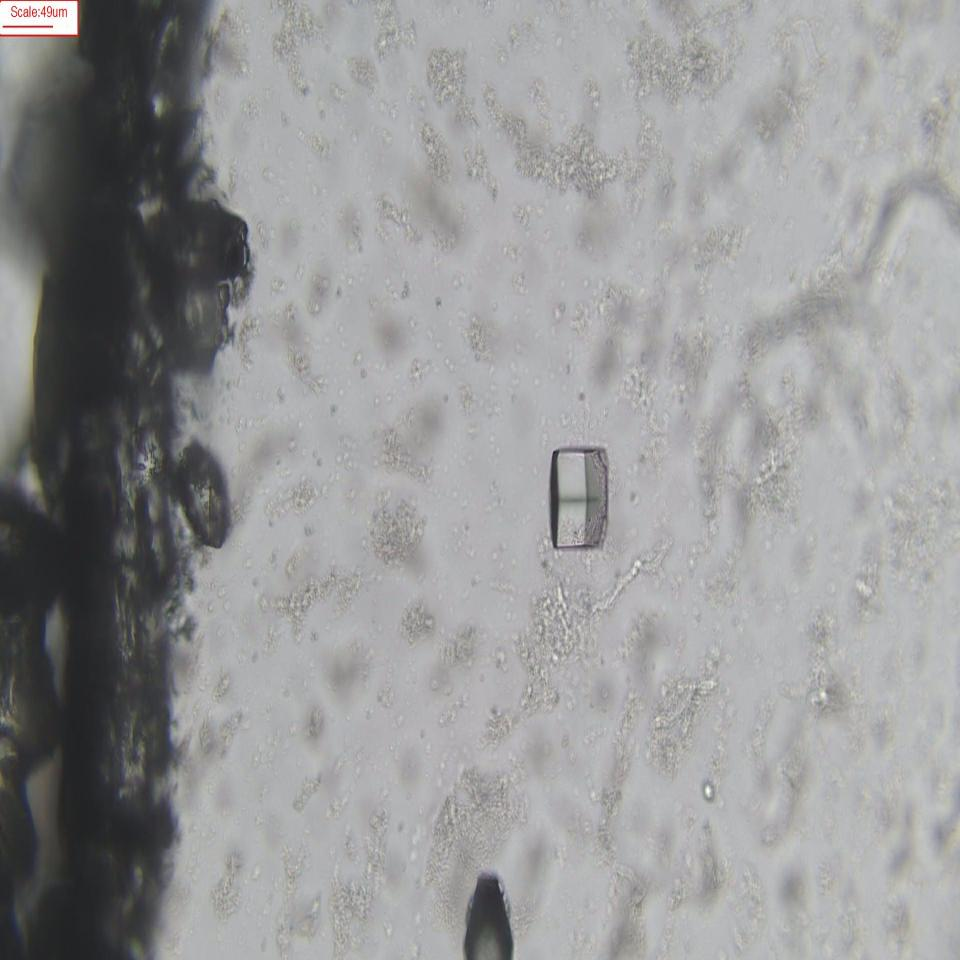crystal: (178, 429, 239, 558), (549, 443, 615, 555)
